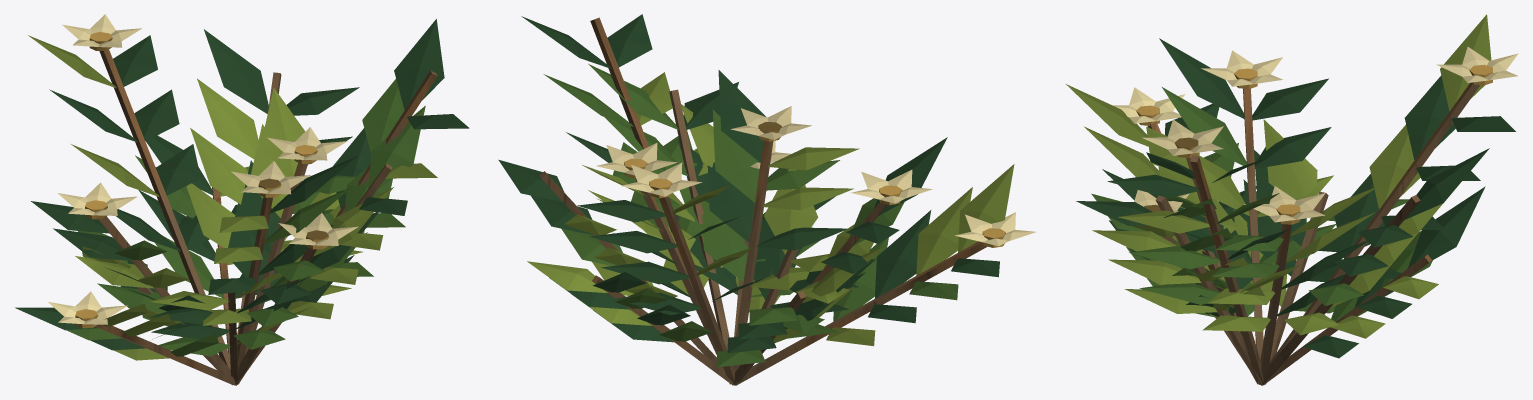
File: b14_shrub_flowers.fbx
The picture shows the model from 3 angles, left to right: view 1: azimuth 30°, elevation 25°; view 2: azimuth 150°, elevation 25°; view 3: azimuth 270°, elevation 25°; orthographic projection. The views are drawn at different scales.
Visible parts, largest first — view 1: b14_shrub_flowers; view 2: b14_shrub_flowers; view 3: b14_shrub_flowers.
Part boxes in pixels (box(x1,y1,x2,y2)): b14_shrub_flowers: box(15, 14, 469, 385); b14_shrub_flowers: box(498, 14, 1035, 385); b14_shrub_flowers: box(1066, 14, 1518, 385).
Bounding box in the file's own units: 9611 × 7944 × 6460.
